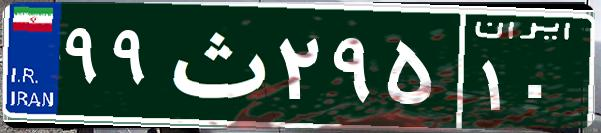0: (525, 38, 570, 115)
1: (475, 38, 525, 113)
2: (273, 28, 330, 110)
5: (385, 28, 445, 110)
9: (330, 28, 385, 110), (57, 26, 110, 107), (110, 28, 158, 105)
ث: (158, 15, 273, 115)
